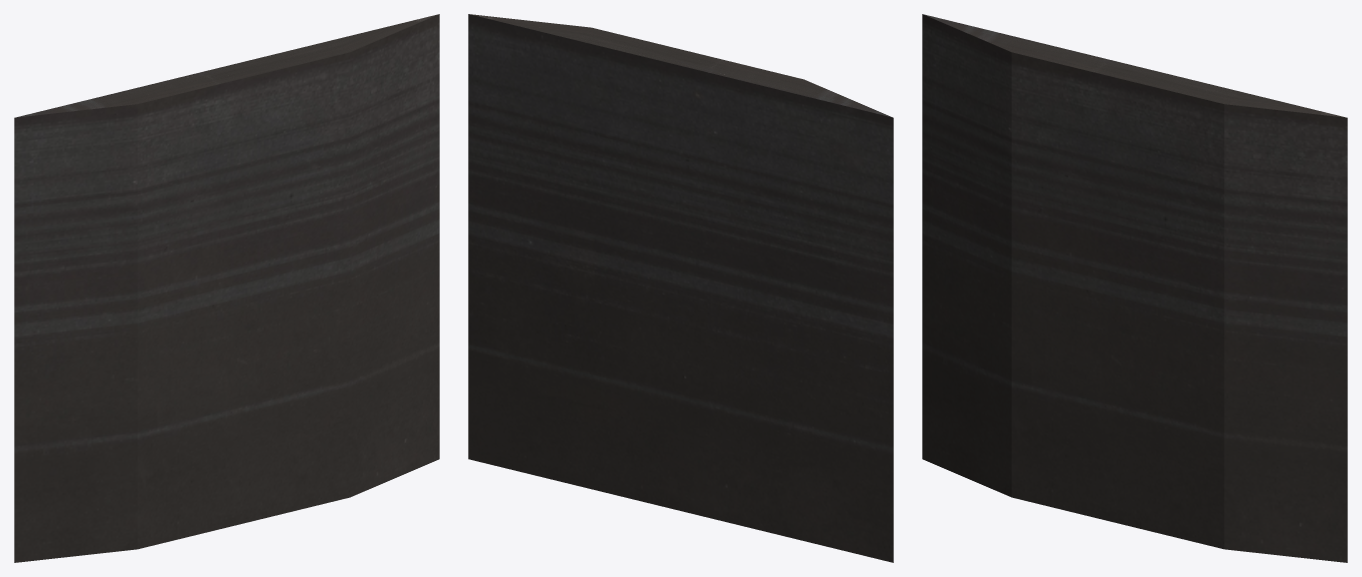
Rendered from bridge_deck.obj.
3 renders of one model, left to right at view 1: azimuth 30°, elevation 25°; view 2: azimuth 150°, elevation 25°; view 3: azimuth 330°, elevation 25°, orthographic.
Visible parts, largest first — view 1: Cube.003; view 2: Cube.003; view 3: Cube.003.
Boxes of the visible parts, x1,y1,x2,y2 form: Cube.003: (14, 14, 439, 562); Cube.003: (468, 14, 893, 562); Cube.003: (922, 14, 1347, 562).
Size of the model in its own units: 0.8 by 0.8 by 0.055.
